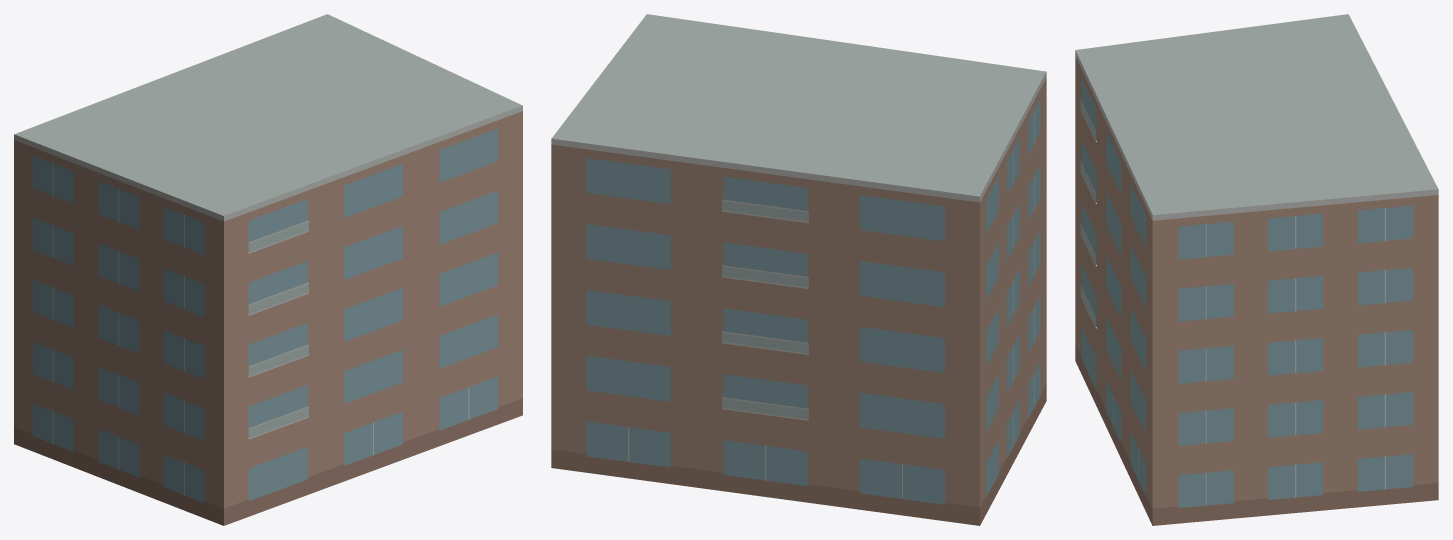
File: survey-upis-32820320.glb
3 renders of one model, left to right at view 1: azimuth 30°, elevation 25°; view 2: azimuth 150°, elevation 25°; view 3: azimuth 270°, elevation 25°, orthographic. The views are drawn at different scales.
Visible parts, largest first — view 1: survey-upis-32820320.tmp; view 2: survey-upis-32820320.tmp; view 3: survey-upis-32820320.tmp.
Boxes of the visible parts, box(x1,y1,x2,y2) form: survey-upis-32820320.tmp: box(14, 14, 522, 525); survey-upis-32820320.tmp: box(551, 14, 1046, 525); survey-upis-32820320.tmp: box(1075, 14, 1438, 525).
Size of the model in its own units: 18.89 by 13.6 by 14.42.
